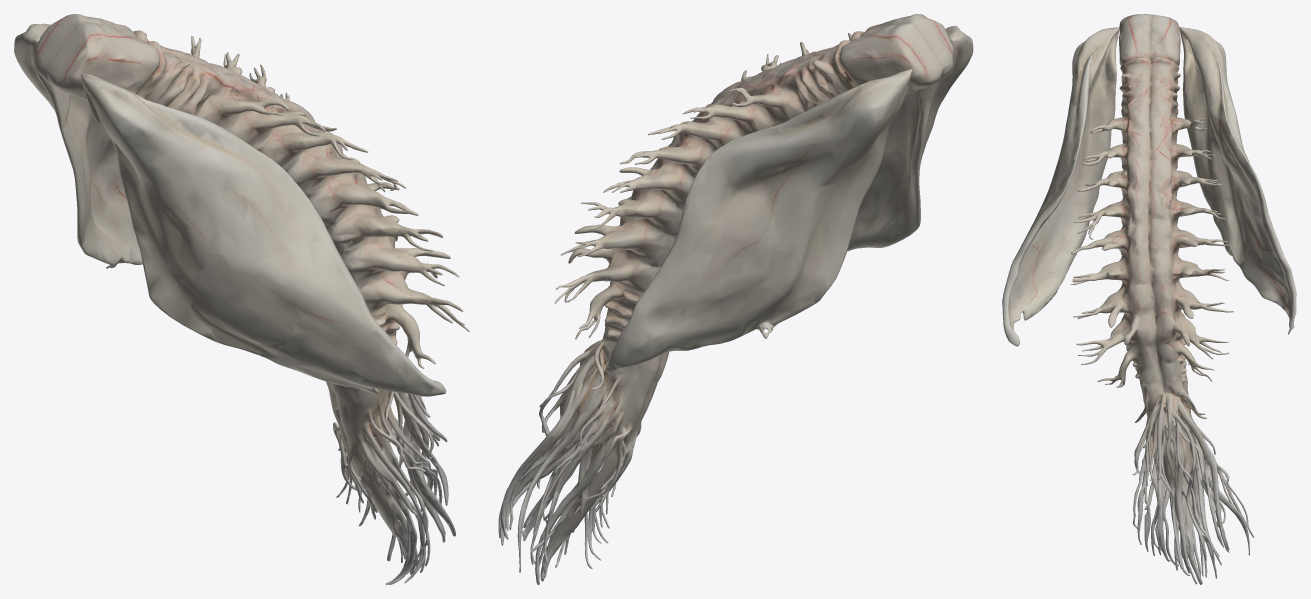
Rendered from spinal-cord.glb.
The picture shows the model from 3 angles, left to right: view 1: azimuth 30°, elevation 25°; view 2: azimuth 150°, elevation 25°; view 3: azimuth 270°, elevation 25°; orthographic projection. The views are drawn at different scales.
Parts seen in each view (by area): view 1: tripo_node_a3fb3cb9-770f-4a40-991b-547c393fb10e; view 2: tripo_node_a3fb3cb9-770f-4a40-991b-547c393fb10e; view 3: tripo_node_a3fb3cb9-770f-4a40-991b-547c393fb10e.
Boxes of the visible parts, x1,y1,x2,y2 form: tripo_node_a3fb3cb9-770f-4a40-991b-547c393fb10e: (14,14,469,584); tripo_node_a3fb3cb9-770f-4a40-991b-547c393fb10e: (498,14,973,584); tripo_node_a3fb3cb9-770f-4a40-991b-547c393fb10e: (1002,14,1296,584).
Bounding box in the file's own units: 0.6828 × 0.9999 × 0.5901.
Materials: 1 (1 with a texture image).
